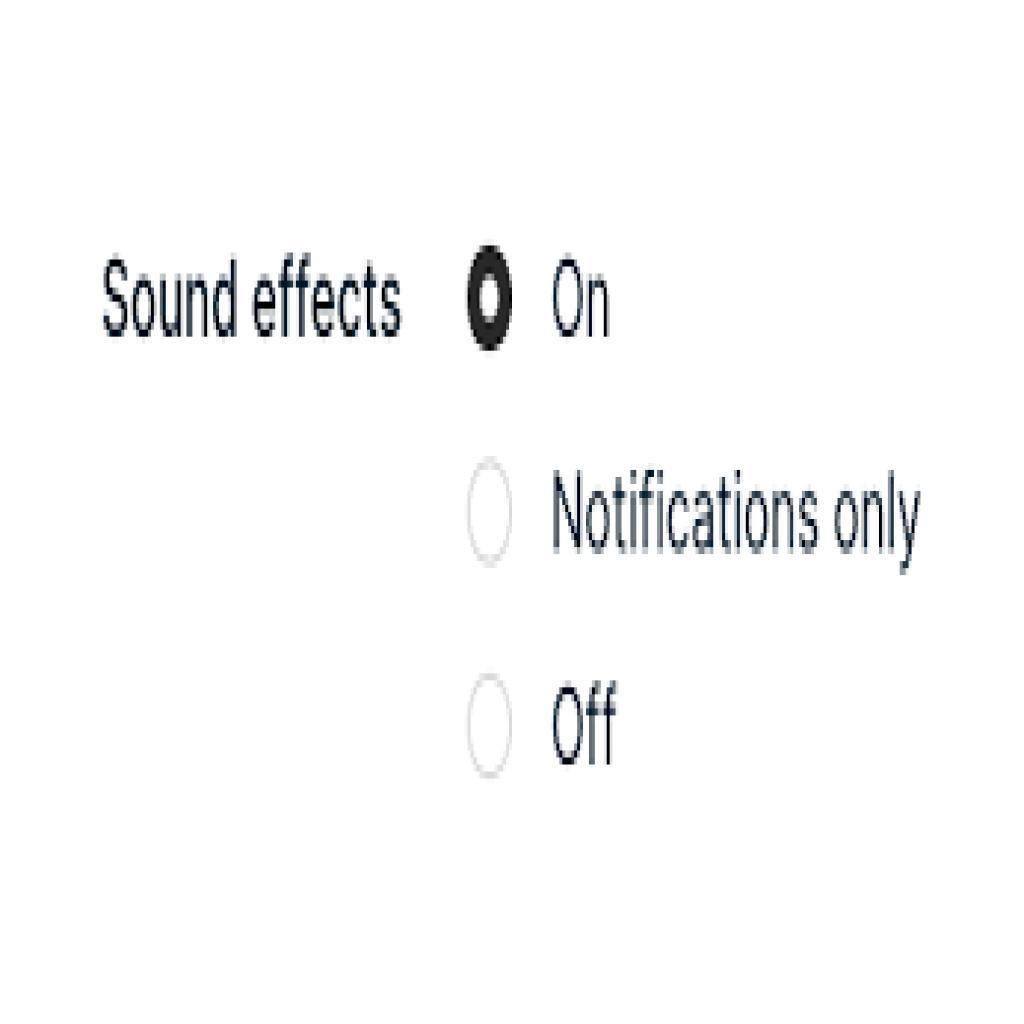label: (540, 461, 927, 574), (95, 251, 413, 347), (543, 677, 631, 775), (545, 255, 619, 343)
radio: (466, 459, 519, 583), (461, 671, 516, 789), (469, 246, 515, 363)
